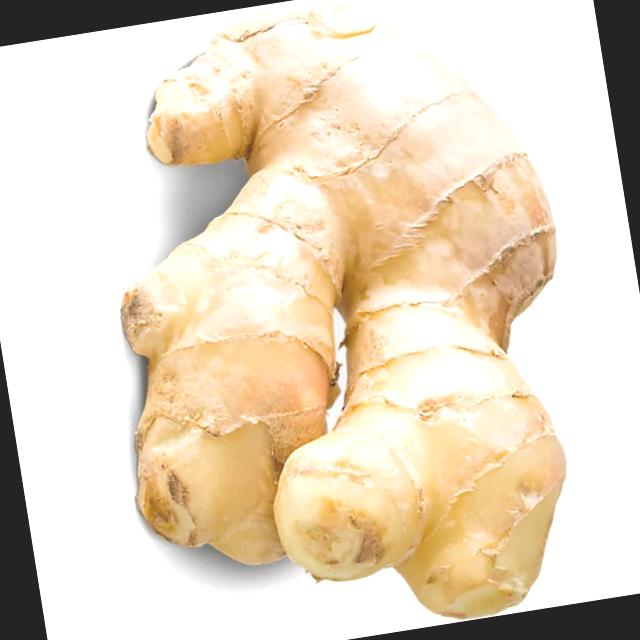ginger-root: (37, 0, 625, 640)
